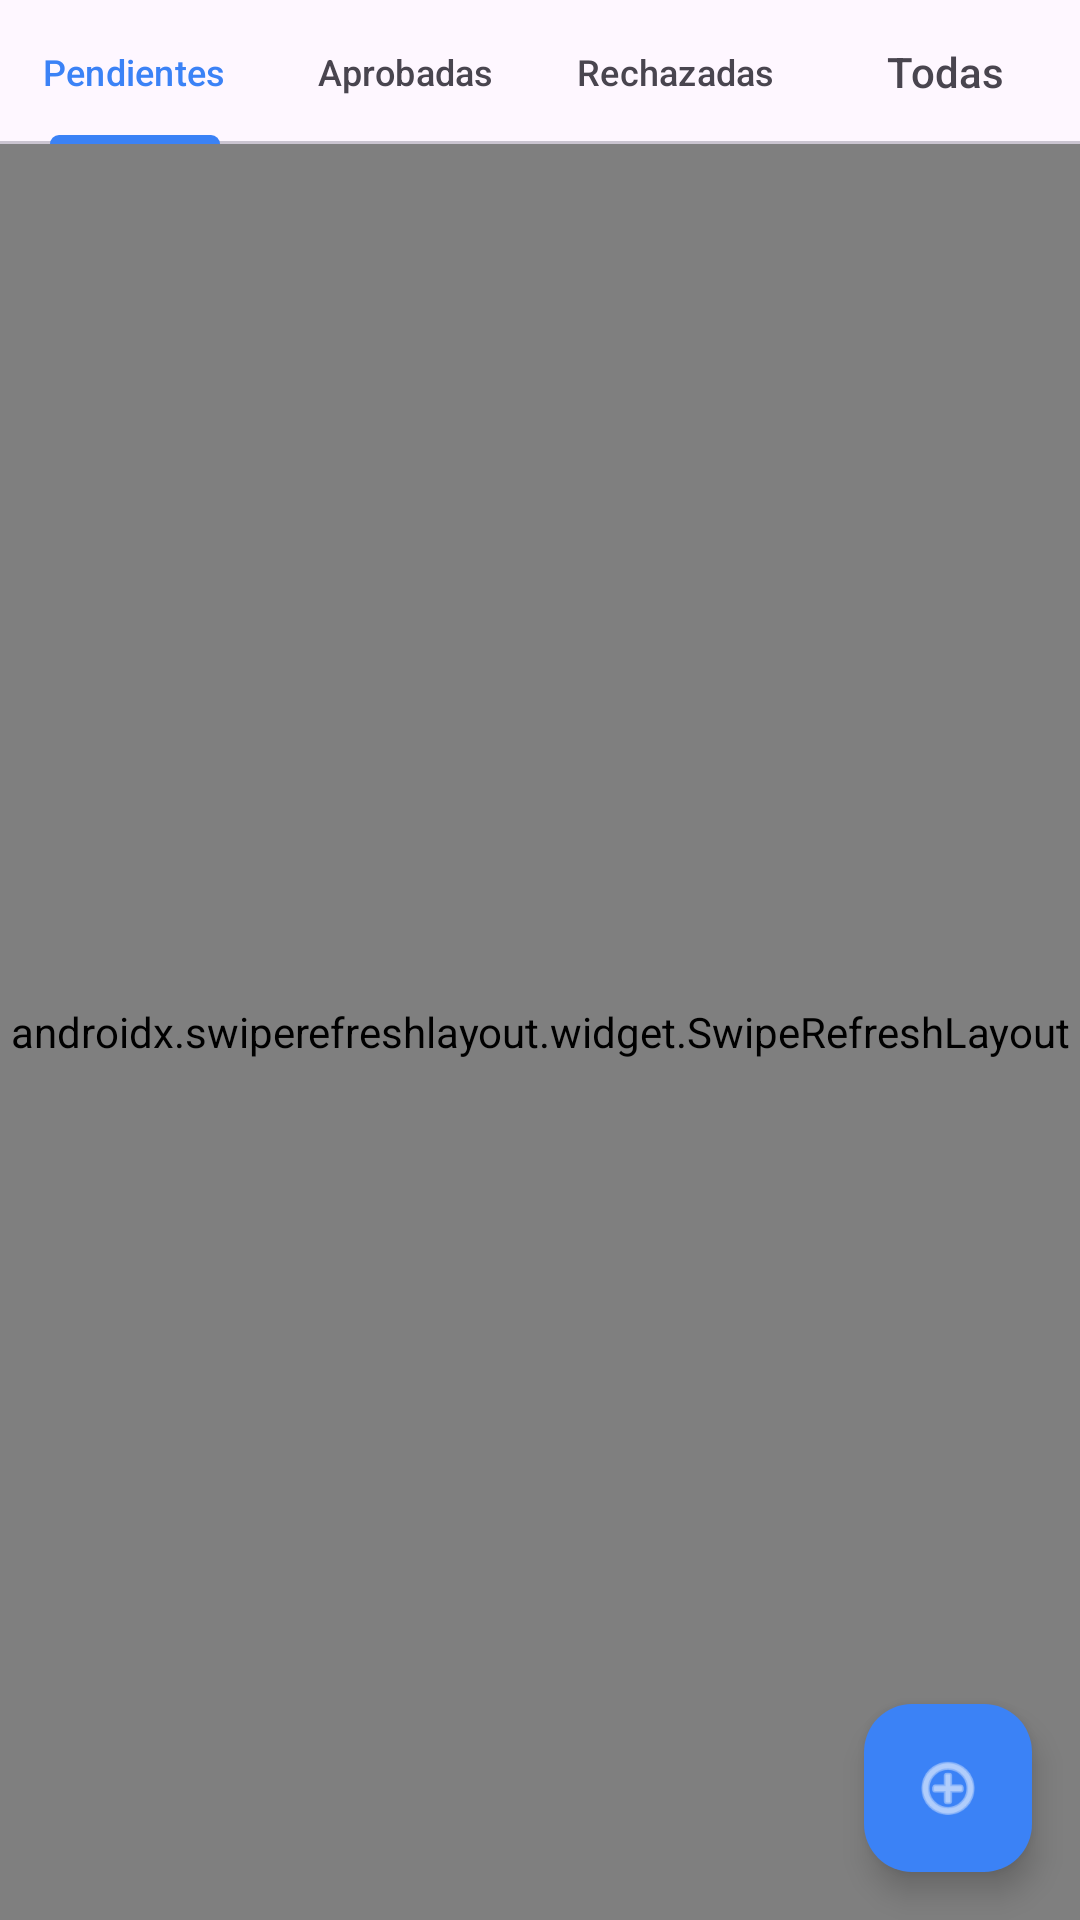

Locate icon controls on the screen. Image size 1080x1920, boxes as (x1, y1, x2, y2).
Invitar Estudiante: (864, 1704, 1032, 1872)
